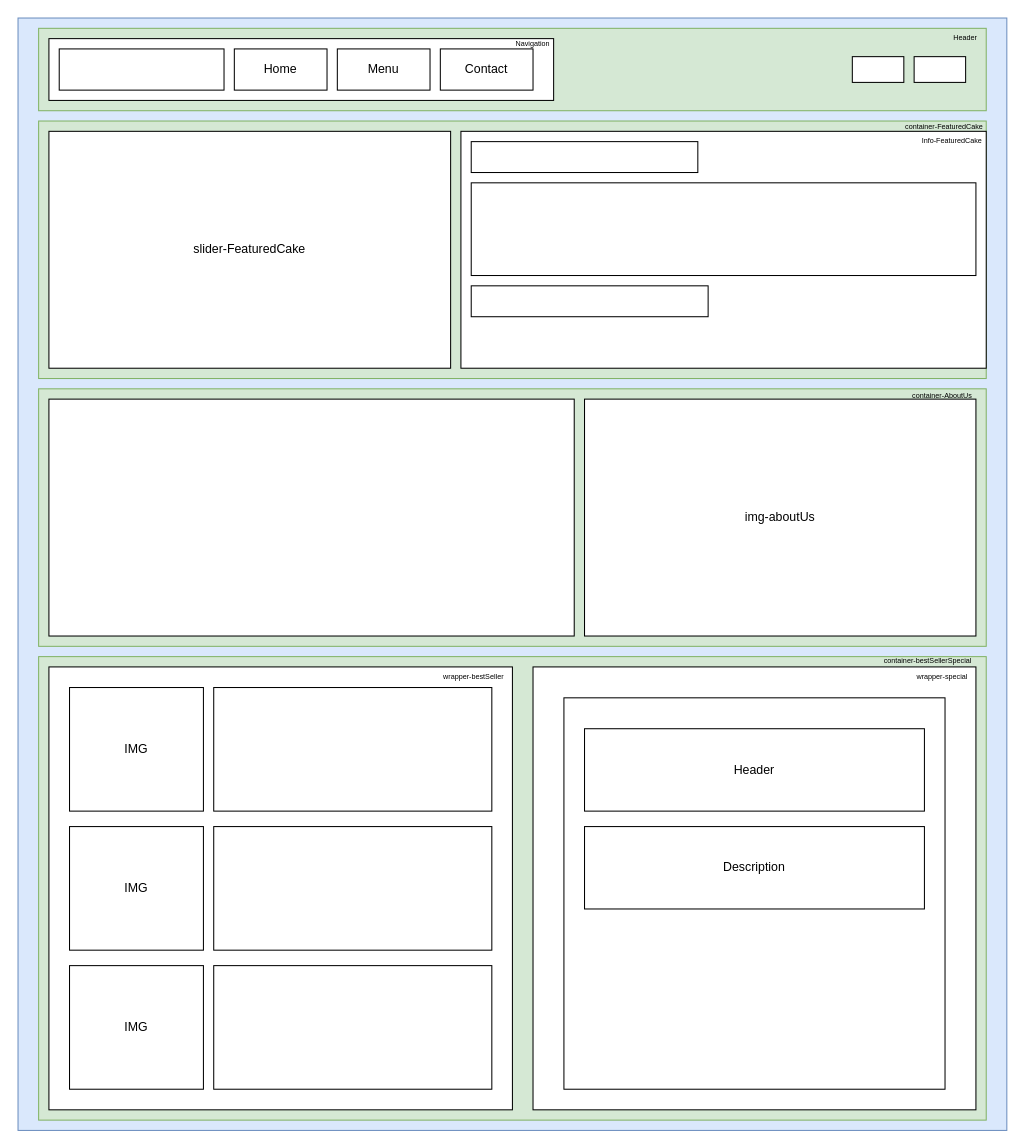
The diagram is 1032 pixels wide and 1148 high, and some of its shapes have lost their labels. Each missing label, with the centre of its shape:
Info-AboutUs: pixel 311 517
Logo: pixel 141 69
